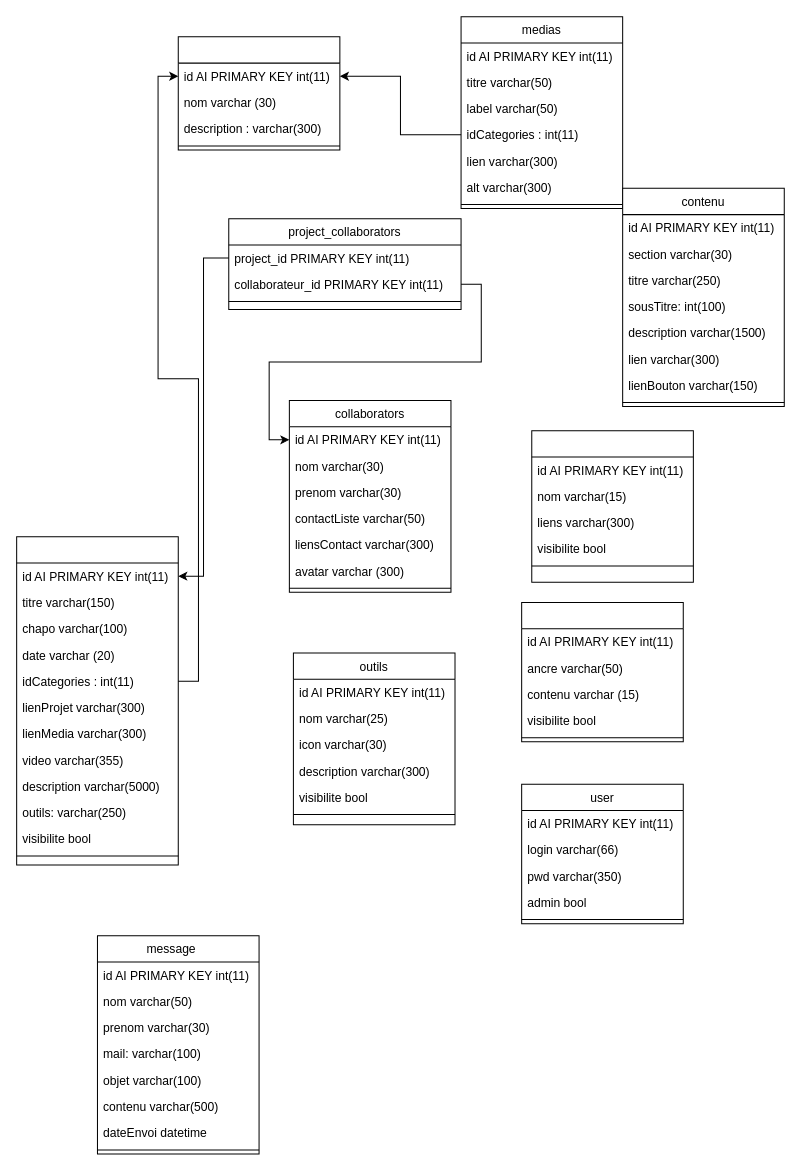
Image size: 801x1171. Some labels were removed from this diagram. Each missing label, with the box of its shape:
categories: (177, 36, 340, 150)
navigation: (521, 601, 683, 742)
projects: (16, 536, 178, 865)
reseaux: (531, 430, 693, 582)
